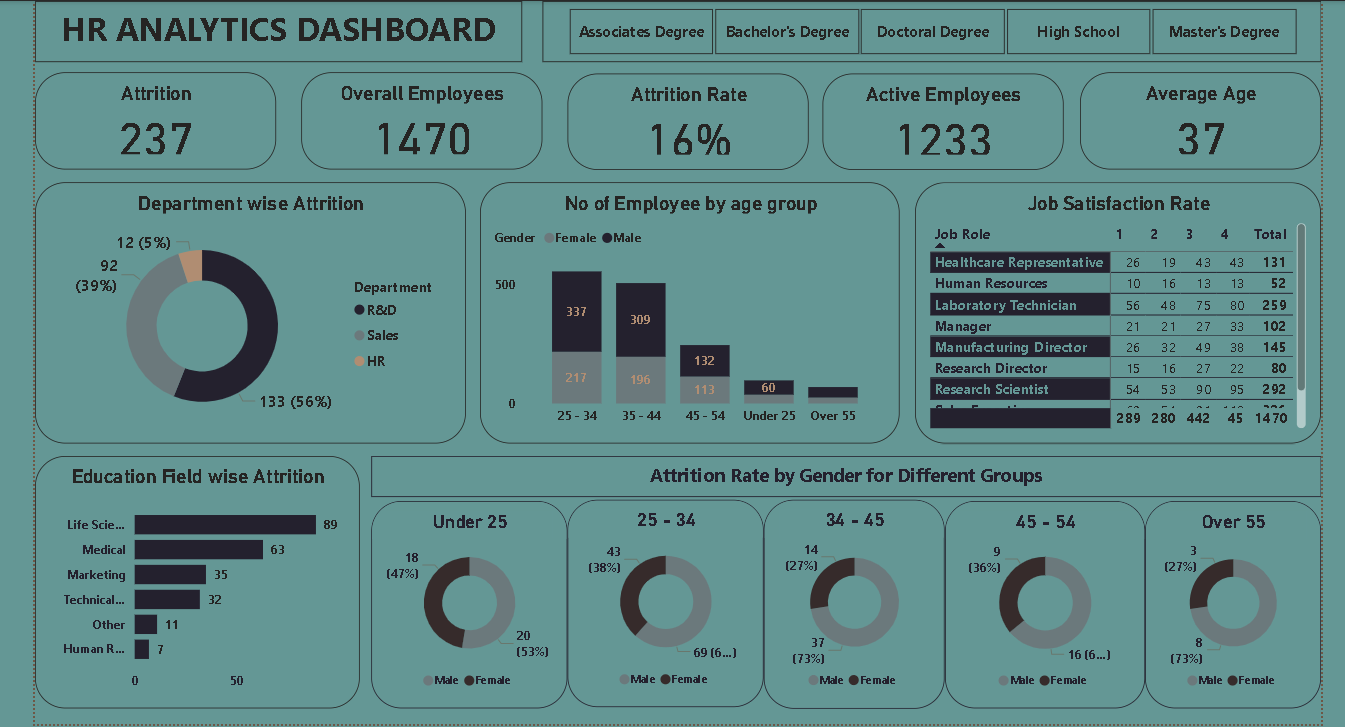

Layout of this report page (visuals, bound fields, positions):
{"tool":"powerbi","page":{"name":"Page 1","canvas":[1280,720],"ordinal":0},"visuals":[{"type":"card","title":"Attrition","fields":{"Values":["Sum(Table1.Attrition count)"]},"box":[0,70.9,240.1,97],"z":0},{"type":"card","title":"Overall Employees","fields":{"Values":["Sum(Table1.Employee Count)"]},"box":[265,70.9,240.1,97],"z":1000},{"type":"card","title":"Attrition Rate","fields":{"Values":["Table1.Attrition Rate"]},"box":[529.9,72.1,240.1,95.8],"z":2000},{"type":"card","title":"Active Employees","fields":{"Values":["Table1.Measure"]},"box":[783.7,72.1,240.1,95.8],"z":3000},{"type":"card","title":"Average Age","fields":{"Values":["Avg(Table1.Age)"]},"box":[1040,70.9,240.1,97],"z":4000},{"type":"donutChart","title":"Department wise Attrition","fields":{"Y":["Sum(Table1.Attrition count)"],"Category":["Table1.Department"]},"box":[0,180.4,429.2,260],"z":5000},{"type":"columnChart","title":"No of Employee by age group","fields":{"Y":["Sum(Table1.Employee Count)"],"Category":["Table1.CF_age band"],"Series":["Table1.Gender"]},"box":[442.8,180.4,418,260],"z":6000},{"type":"pivotTable","title":"Job Satisfaction Rate","fields":{"Rows":["Table1.Job Role"],"Columns":["Table1.Job Satisfaction"],"Values":["Sum(Table1.Employee Count)"]},"box":[875.7,180.4,404.3,260],"z":7000},{"type":"clusteredBarChart","title":"Education Field wise Attrition","fields":{"Category":["Table1.Education Field"],"Y":["Sum(Table1.Attrition count)"]},"box":[0,452.8,323.4,251.3],"z":8000},{"type":"donutChart","title":"Under  25","fields":{"Category":["Table1.Gender"],"Y":["Sum(Table1.Attrition count)"],"Series":["Table1.CF_age band"]},"box":[334.6,497.6,195.3,206.5],"z":9000},{"type":"slicer","fields":{"Values":["Table1.Education"]},"box":[505,0,775,61],"z":10000},{"type":"textbox","box":[0,0,485.1,61],"z":11000},{"type":"textbox","box":[334.6,452.8,945.4,41.1],"z":12000},{"type":"donutChart","title":"Over 55","fields":{"Category":["Table1.Gender"],"Y":["Sum(Table1.Attrition count)"],"Series":["Table1.CF_age band"]},"box":[1104.6,497.6,175.4,206.5],"z":13000},{"type":"donutChart","title":"25 - 34","fields":{"Category":["Table1.Gender"],"Y":["Sum(Table1.Attrition count)"],"Series":["Table1.CF_age band"]},"box":[529.9,496.3,195.3,206.5],"z":14000},{"type":"donutChart","title":"45 - 54","fields":{"Category":["Table1.Gender"],"Y":["Sum(Table1.Attrition count)"],"Series":["Table1.CF_age band"]},"box":[905.6,497.6,199,206.5],"z":15000},{"type":"donutChart","title":"34 - 45","fields":{"Category":["Table1.Gender"],"Y":["Sum(Table1.Attrition count)"],"Series":["Table1.CF_age band"]},"box":[725.2,496.3,180.4,207.7],"z":16000}]}

Visuals, with their boxes on the page's 1280x720 design canvas (x1, y1, x2, y2). These are canvas units, not pixel positions in the 1345x727 screenshot, which may show the page scaled, cropped or inside an application window:
"Attrition" card: locate(0, 71, 240, 168)
"Overall Employees" card: locate(265, 71, 505, 168)
"Attrition Rate" card: locate(530, 72, 770, 168)
"Active Employees" card: locate(784, 72, 1024, 168)
"Average Age" card: locate(1040, 71, 1280, 168)
"Department wise Attrition" donutChart: locate(0, 180, 429, 440)
"No of Employee by age group" columnChart: locate(443, 180, 861, 440)
"Job Satisfaction Rate" pivotTable: locate(876, 180, 1280, 440)
"Education Field wise Attrition" clusteredBarChart: locate(0, 453, 323, 704)
"Under  25" donutChart: locate(335, 498, 530, 704)
slicer - Table1.Education: locate(505, 0, 1280, 61)
textbox: locate(0, 0, 485, 61)
textbox: locate(335, 453, 1280, 494)
"Over 55" donutChart: locate(1105, 498, 1280, 704)
"25 - 34" donutChart: locate(530, 496, 725, 703)
"45 - 54" donutChart: locate(906, 498, 1105, 704)
"34 - 45" donutChart: locate(725, 496, 906, 704)
